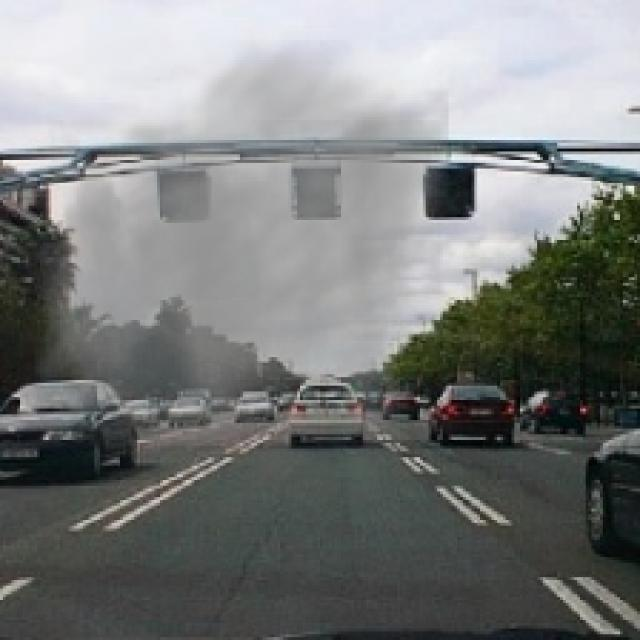smoke: (34, 26, 449, 446)
